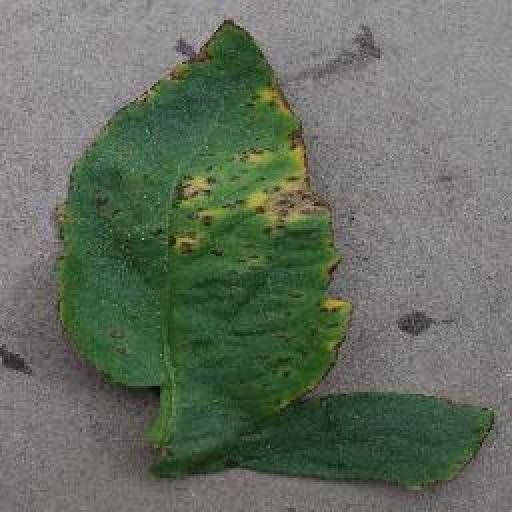Bacterial Spot: (52, 14, 359, 450)
